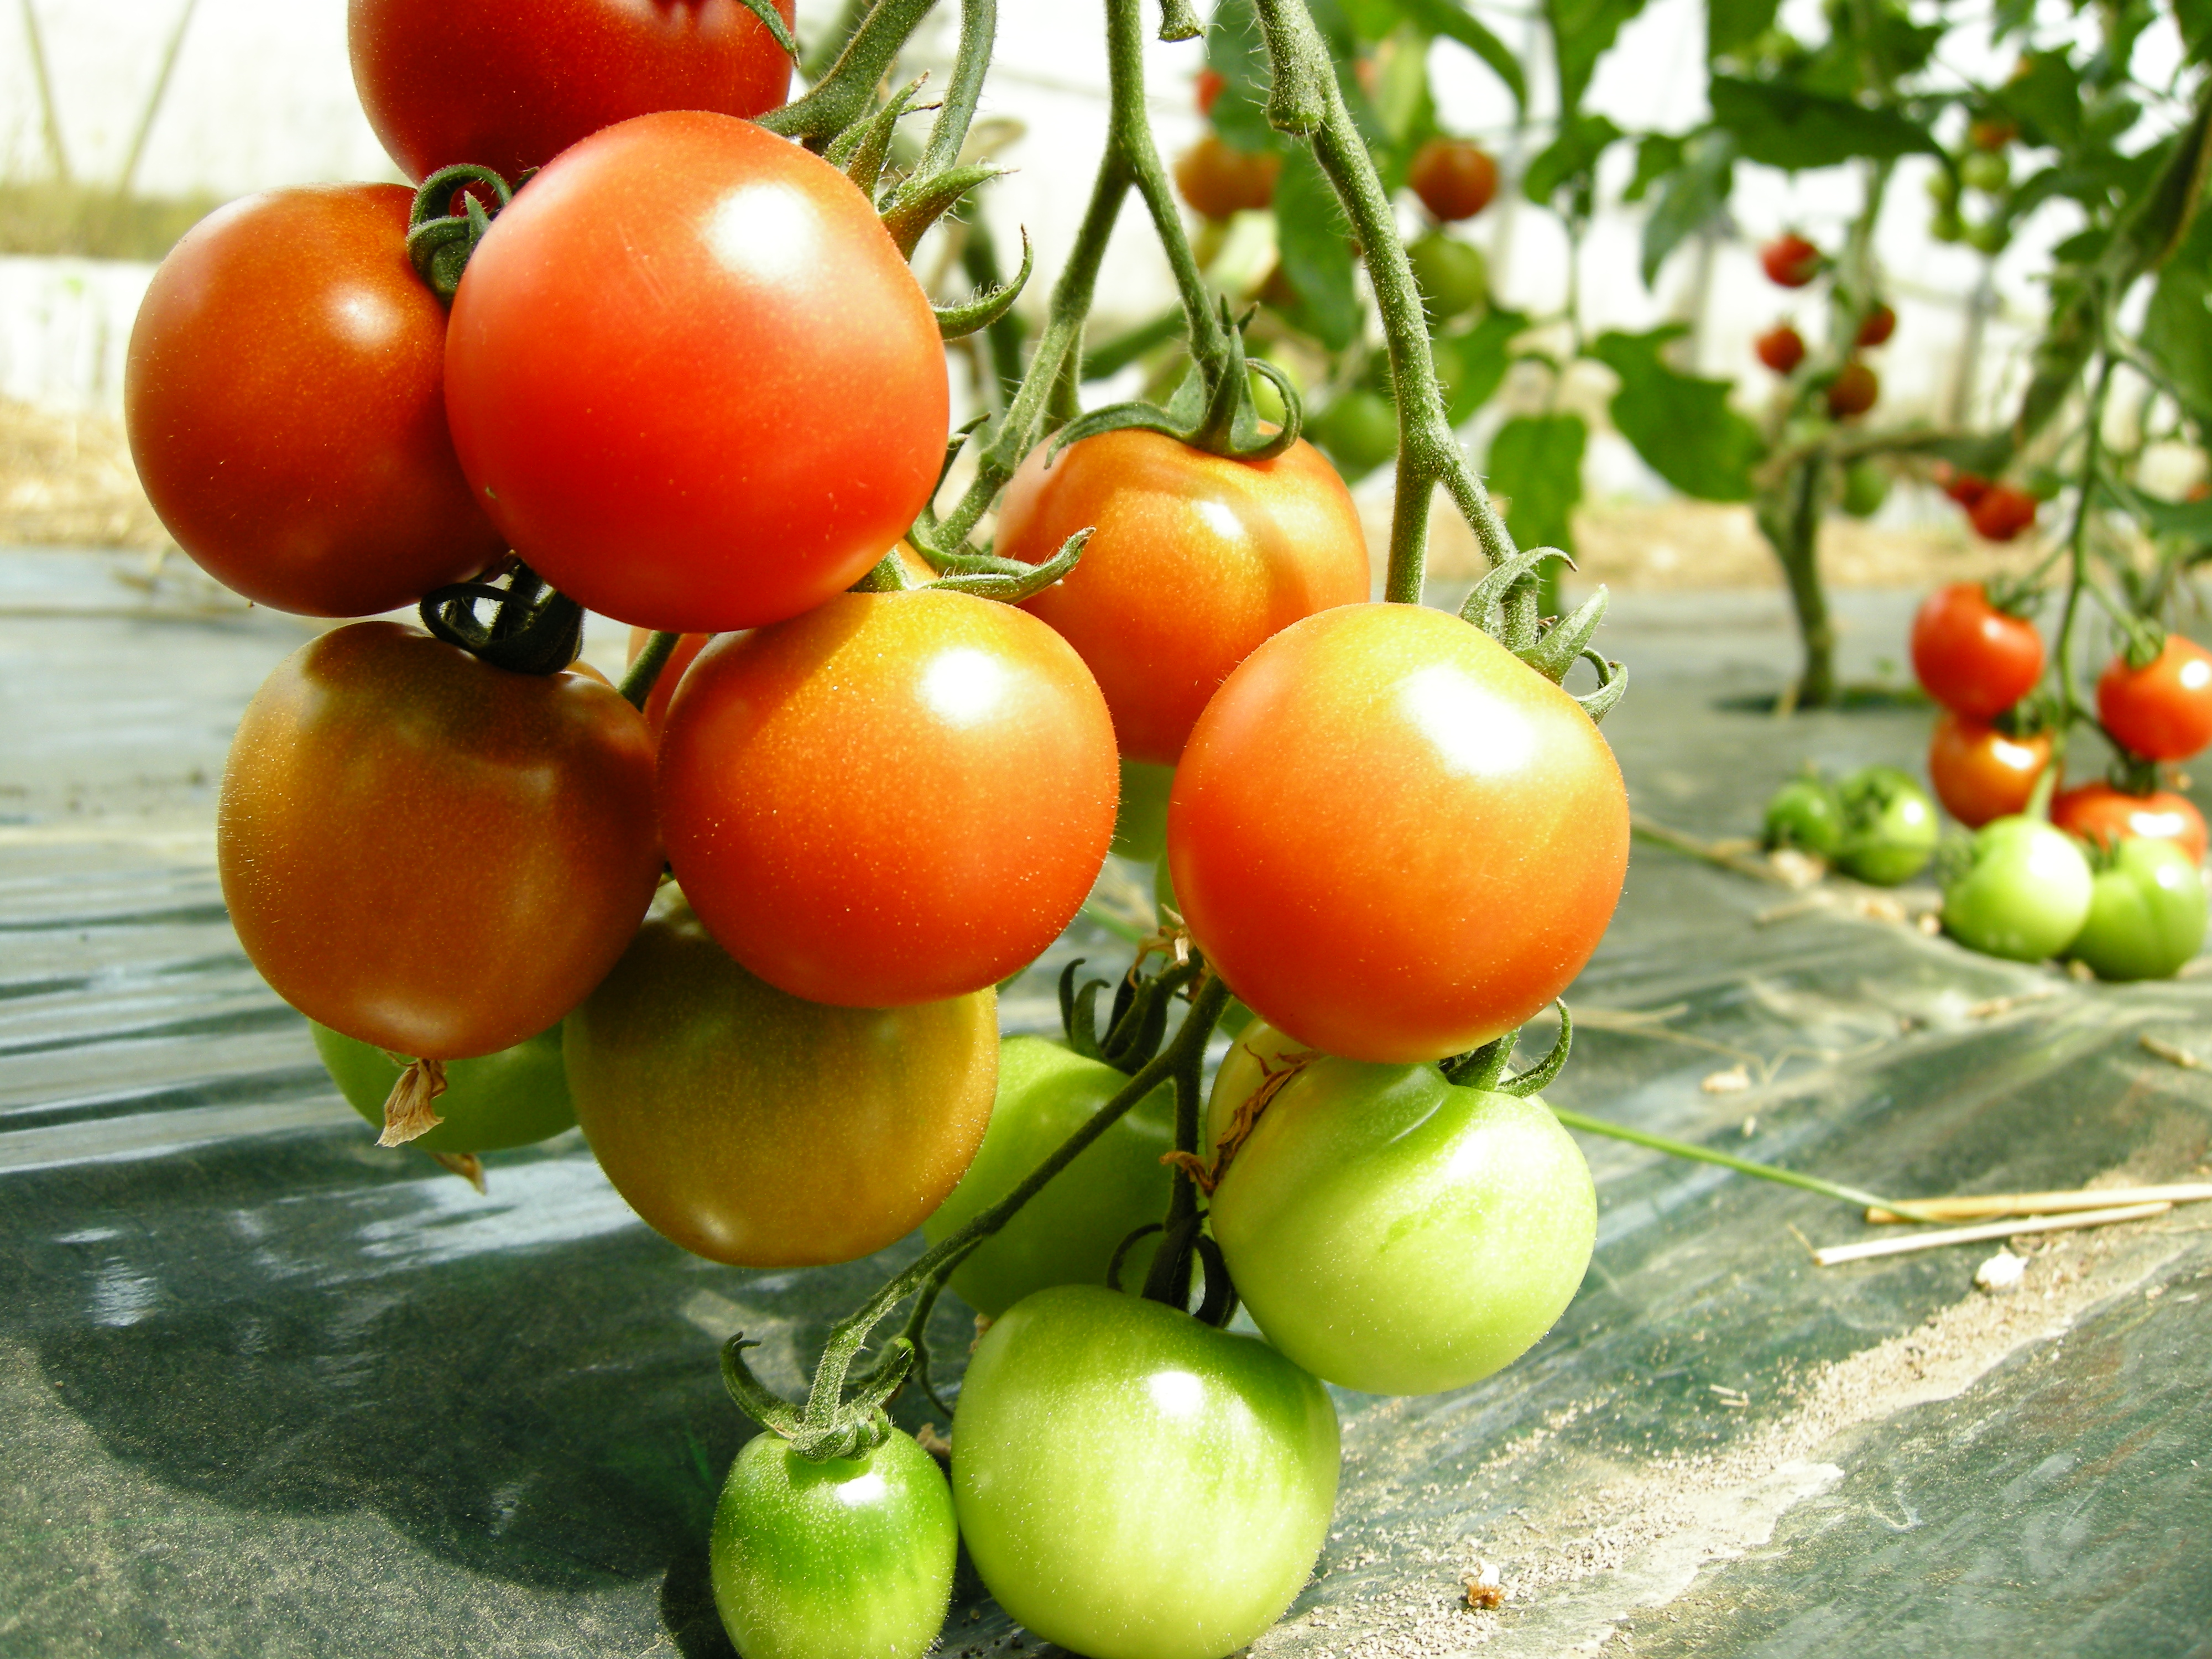tomato: (455, 113, 960, 640), (1155, 603, 1637, 1054), (211, 610, 676, 1066), (662, 570, 1125, 1011), (122, 174, 547, 631), (570, 938, 1043, 1297), (951, 1288, 1341, 1659), (1209, 1061, 1594, 1419), (1001, 425, 1372, 737), (704, 1401, 988, 1652)
